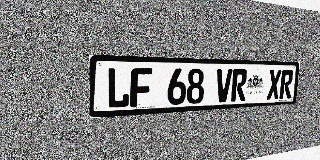6: (167, 68, 187, 105)
8: (186, 69, 205, 104)
F: (130, 68, 152, 107)
L: (107, 67, 130, 109)
R: (231, 69, 247, 102), (279, 70, 294, 99)
V: (215, 69, 232, 103)
X: (267, 70, 282, 100)
